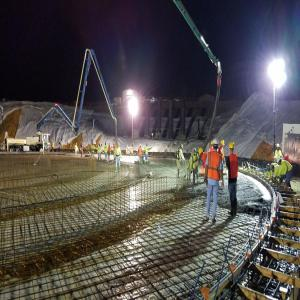white: (213, 140, 220, 151), (193, 148, 198, 158), (278, 158, 283, 167), (267, 164, 272, 173), (271, 164, 275, 174), (277, 143, 281, 151), (180, 144, 184, 150), (140, 144, 142, 149)
yellow: (229, 142, 236, 156), (199, 147, 205, 158), (222, 140, 226, 149), (118, 142, 121, 149)
